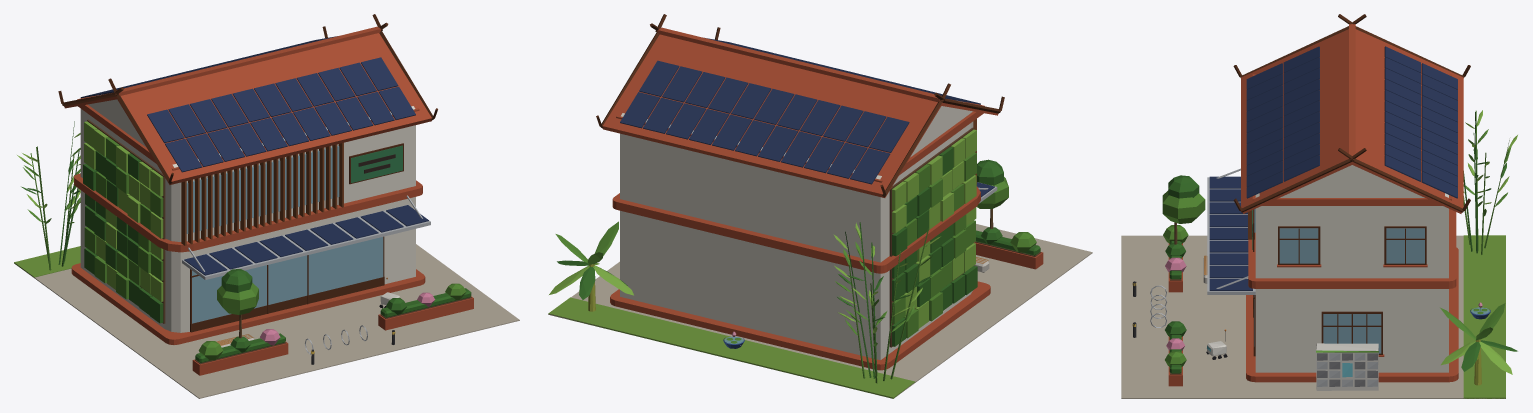
The model's file is shop_2.glb.
3 views of the same model, side by side, from view 1: azimuth 30°, elevation 25°; view 2: azimuth 150°, elevation 25°; view 3: azimuth 270°, elevation 25° (orthographic). The views are drawn at different scales.
Parts seen in each view (by area): view 1: body; view 2: body; view 3: body.
Part boxes in pixels (x1=…): body: x1=14, y1=14, x2=519, y2=398; body: x1=548, y1=14, x2=1092, y2=398; body: x1=1121, y1=14, x2=1517, y2=398.
Size of the model in its own units: 17.23 by 10.81 by 16.43.
